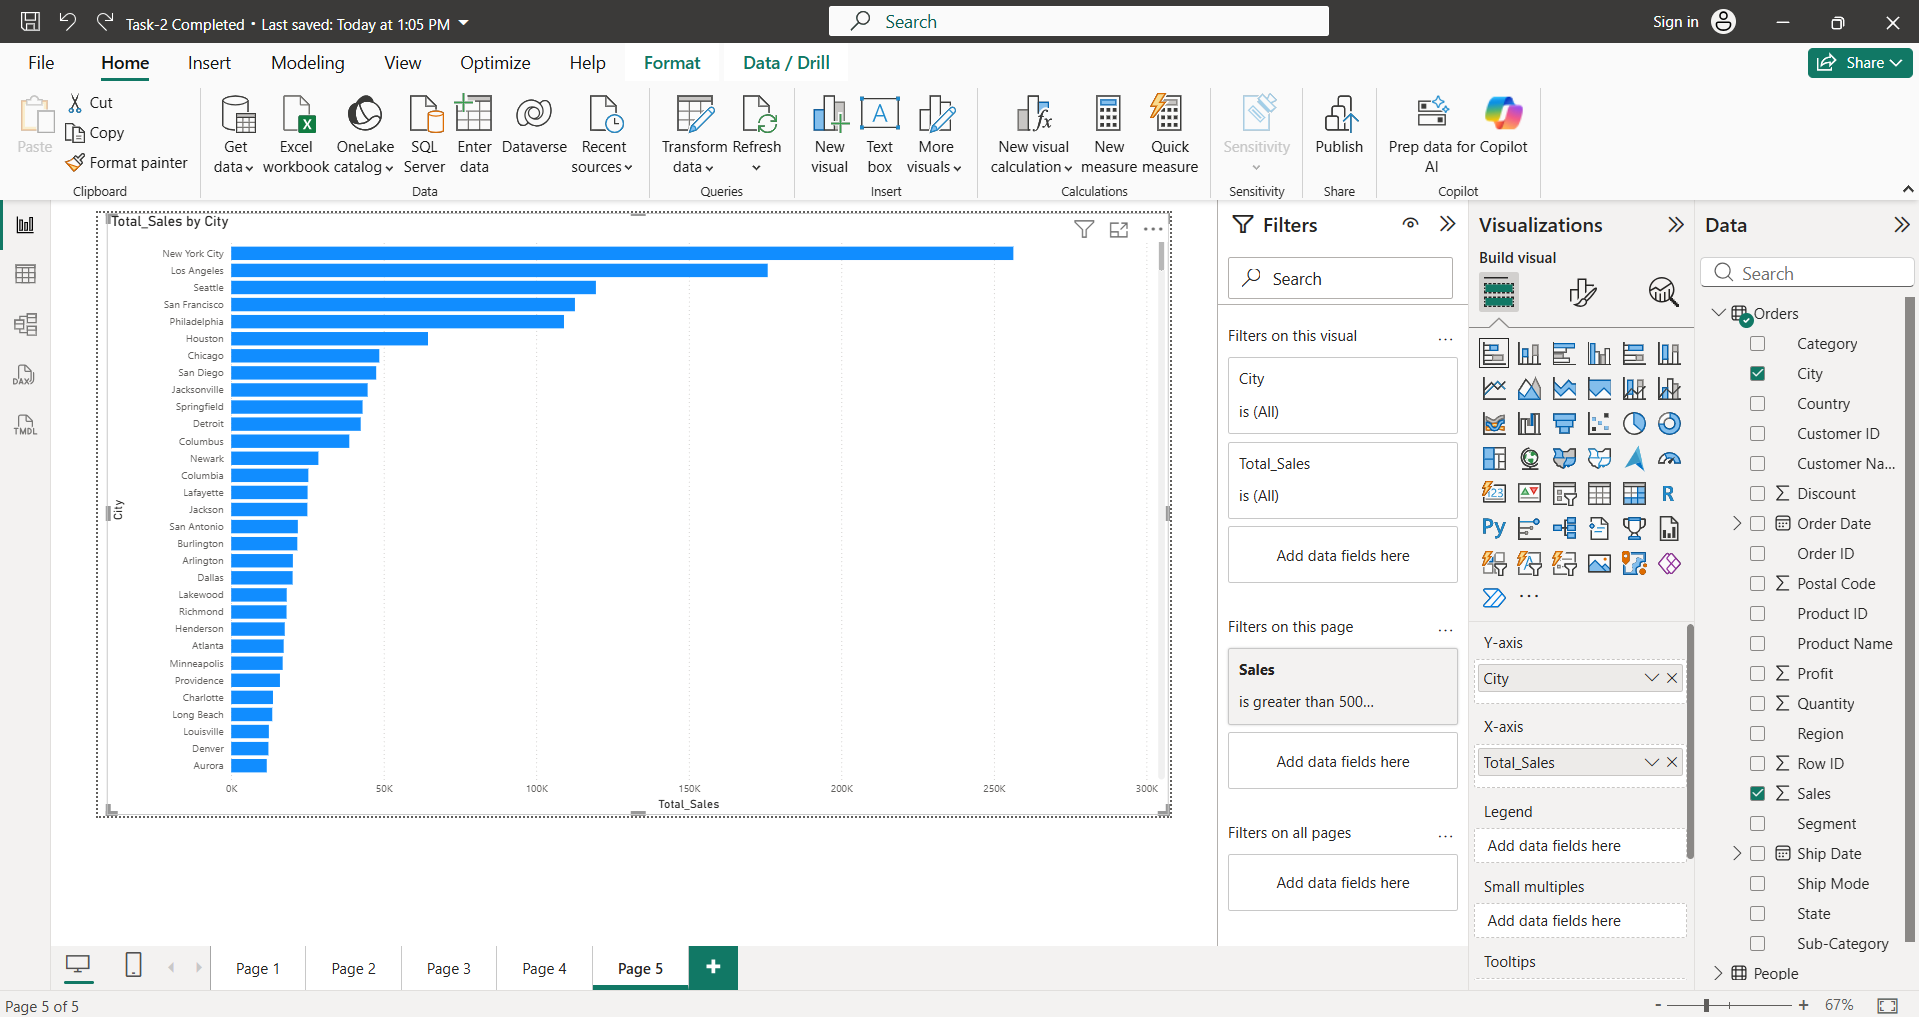

This screenshot's page, from the dashboard's own definition file:
{"tool":"powerbi","page":{"name":"Page 5","canvas":[1280,720],"ordinal":4},"visuals":[{"type":"barChart","fields":{"Category":["Orders.City"],"Y":["Sum(Orders.Sales)"]},"box":[10.4,0,1268.7,719.4],"z":0}]}

Visuals, with their boxes on the page's 1280x720 design canvas (x1, y1, x2, y2). These are canvas units, not pixel positions in the 1919x1017 screenshot, which may show the page scaled, cropped or inside an application window:
barChart - Orders.City x Sum(Orders.Sales): {"left": 10, "top": 0, "right": 1279, "bottom": 719}
